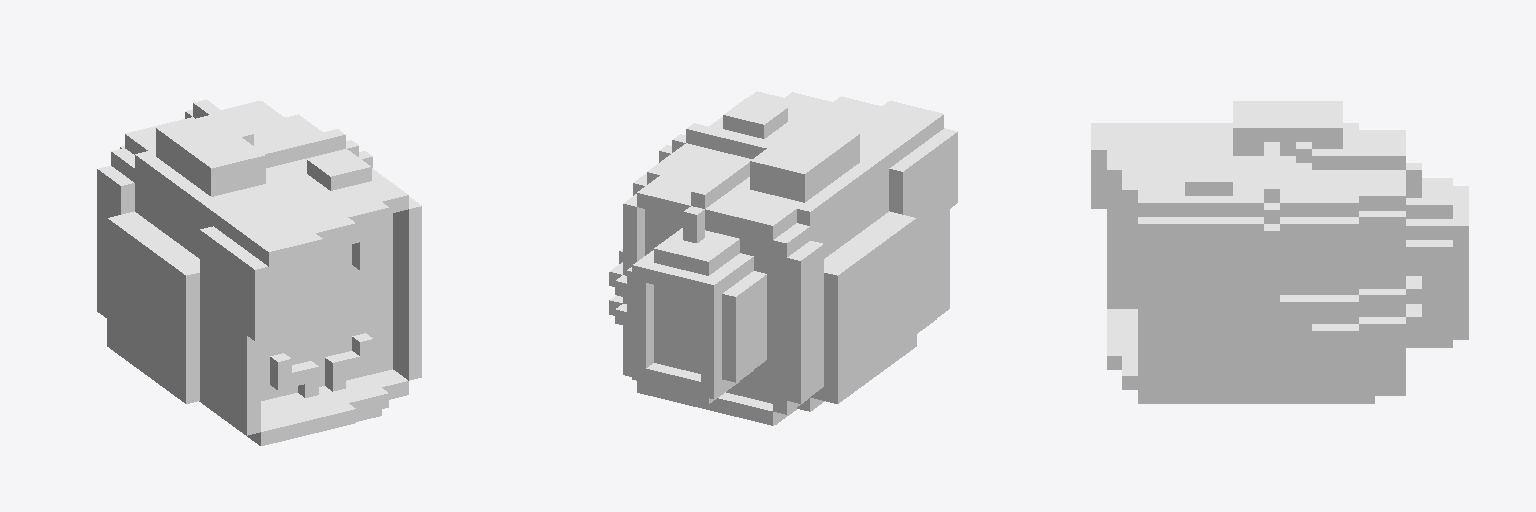
Rendered from Extra-13-StarMarine_Thruster_L.obj.
3 renders of one model, left to right at view 1: azimuth 30°, elevation 25°; view 2: azimuth 150°, elevation 25°; view 3: azimuth 270°, elevation 25°, orthographic.
Parts seen in each view (by area): view 1: StarMarine_Thruster_L; view 2: StarMarine_Thruster_L; view 3: StarMarine_Thruster_L.
Boxes of the visible parts, box(x1,y1,x2,y2) form: StarMarine_Thruster_L: box(97, 99, 421, 445); StarMarine_Thruster_L: box(609, 91, 957, 425); StarMarine_Thruster_L: box(1091, 101, 1468, 403).
Size of the model in its own units: 1.6 by 1.7 by 2.4.